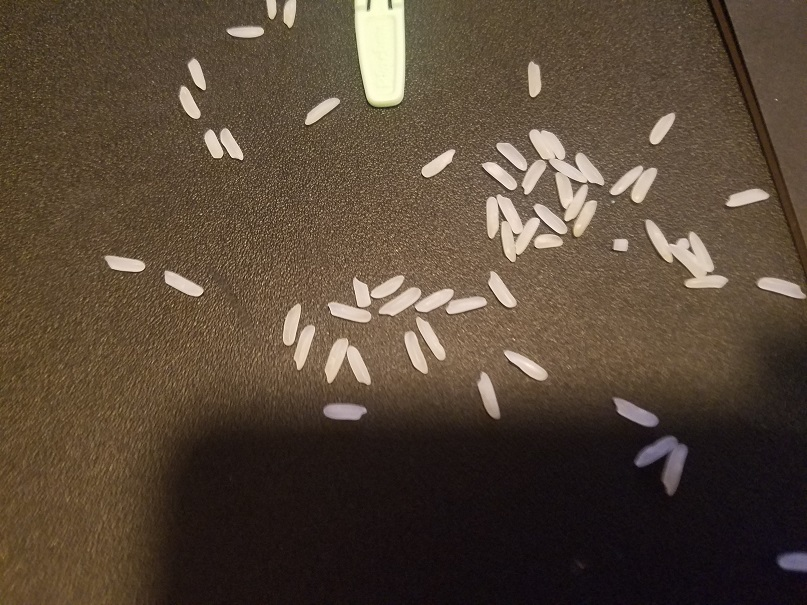egg: (499, 347, 552, 384), (657, 441, 692, 496), (609, 393, 661, 429), (631, 433, 678, 471), (484, 265, 520, 312), (378, 282, 425, 316), (642, 215, 675, 263), (345, 340, 376, 389), (400, 326, 430, 376), (301, 93, 345, 127), (668, 242, 709, 278), (417, 316, 446, 364), (320, 335, 348, 384), (289, 323, 318, 370), (476, 370, 503, 419), (478, 160, 519, 192), (755, 275, 807, 300), (533, 201, 570, 236), (646, 107, 679, 146), (628, 165, 660, 205), (722, 186, 775, 209), (497, 192, 525, 235), (609, 162, 643, 197), (688, 231, 716, 272), (414, 285, 456, 312), (163, 270, 203, 298), (420, 148, 455, 180), (370, 270, 407, 300), (573, 193, 597, 239), (279, 303, 304, 347), (324, 302, 374, 324), (520, 154, 548, 193), (574, 149, 605, 184), (549, 157, 592, 182), (514, 214, 540, 254), (496, 140, 530, 170), (322, 401, 368, 422), (220, 127, 246, 163), (445, 293, 487, 315), (178, 84, 201, 122), (541, 127, 567, 160), (683, 272, 728, 291), (201, 126, 226, 159), (555, 170, 576, 209), (775, 548, 807, 573), (500, 220, 519, 262), (187, 54, 208, 92), (104, 254, 145, 273), (531, 128, 553, 160), (526, 59, 542, 101), (351, 276, 372, 306), (280, 1, 298, 30), (486, 195, 498, 238), (534, 233, 564, 249), (225, 26, 267, 37), (610, 237, 631, 254), (675, 236, 691, 252), (266, 1, 278, 21)
